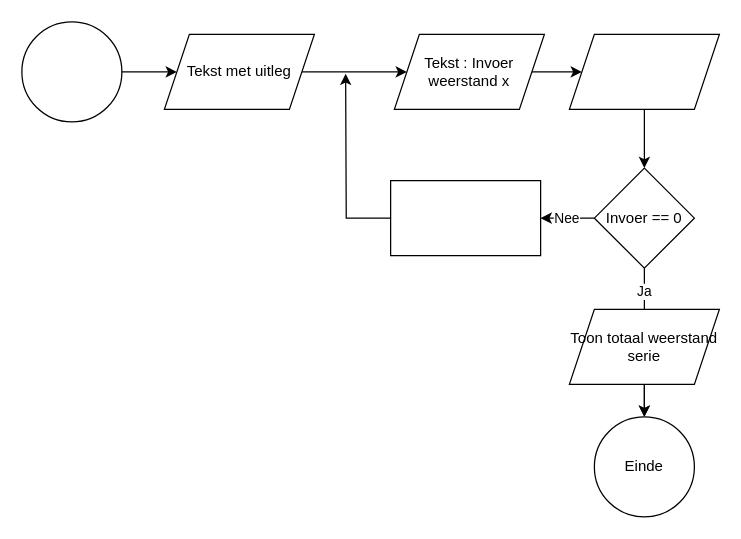
This 741x539 diagram has some shape labels left out. Each missing label, with the centre of its shape:
"Begin" belongs at pixel 71 71.
"Bereken totaal weerstand serie" belongs at pixel 465 217.
"Invoer weerstand x" belongs at pixel 643 71.
